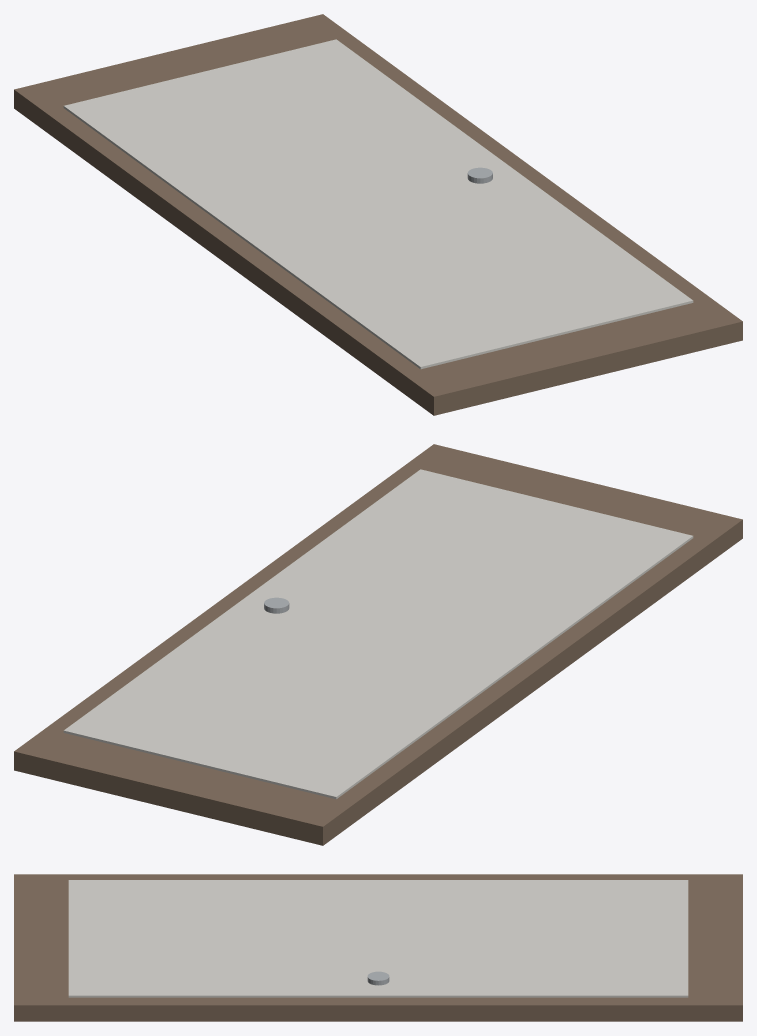
Rendered from door_hinged_old.glb.
3 views of the same model, one above another, from view 1: azimuth 30°, elevation 25°; view 2: azimuth 150°, elevation 25°; view 3: azimuth 270°, elevation 25° (orthographic). The views are drawn at different scales.
Parts seen in each view (by area): view 1: world; view 2: world; view 3: world.
Boxes of the visible parts, <box> form: world: <box>14,14,742,415</box>; world: <box>14,444,742,845</box>; world: <box>14,874,742,1021</box>.
Bounding box in the file's own units: 0.85 × 0.07 × 2.
